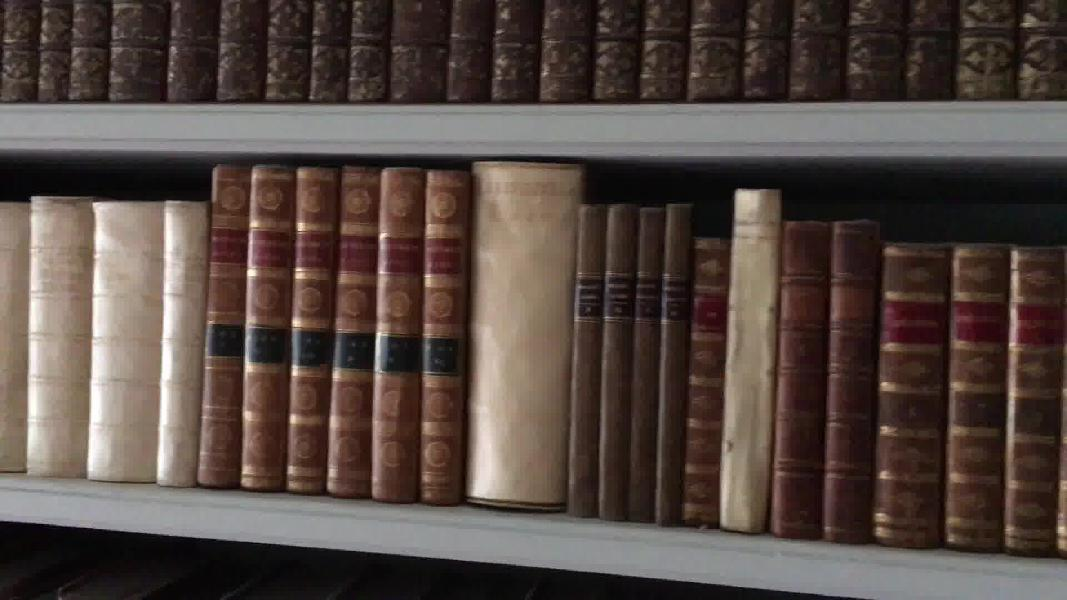Kk4-14: (469, 159, 573, 513)
Kk4-15_16: (574, 198, 632, 523)
Kk4-17_18: (634, 194, 688, 526)
Kk4-19: (691, 228, 724, 528)
Kk4-20: (724, 185, 777, 536)
Kk4-21_22: (781, 216, 878, 544)
Kk4-23_26: (879, 237, 1067, 545)
Kk4-3_7: (2, 196, 204, 487)
Kk4-8_13: (202, 158, 470, 508)
